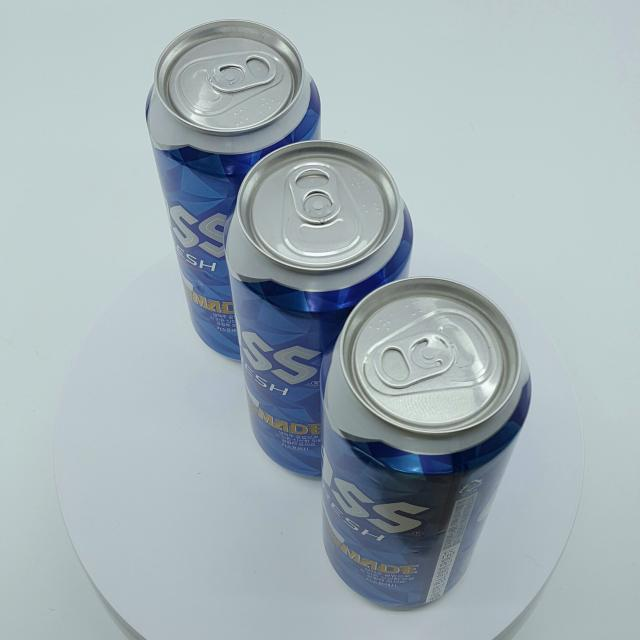beer-can: (319, 276, 531, 607), (223, 139, 413, 478), (145, 19, 327, 364)
